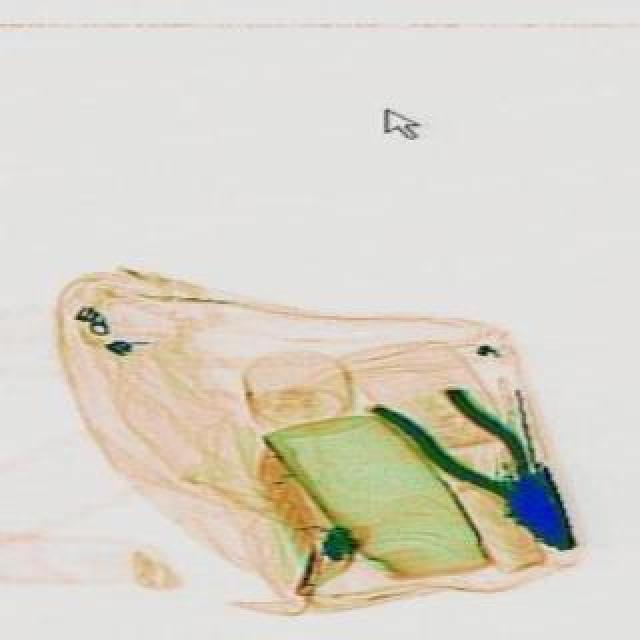wrench: (366, 352, 600, 576)
